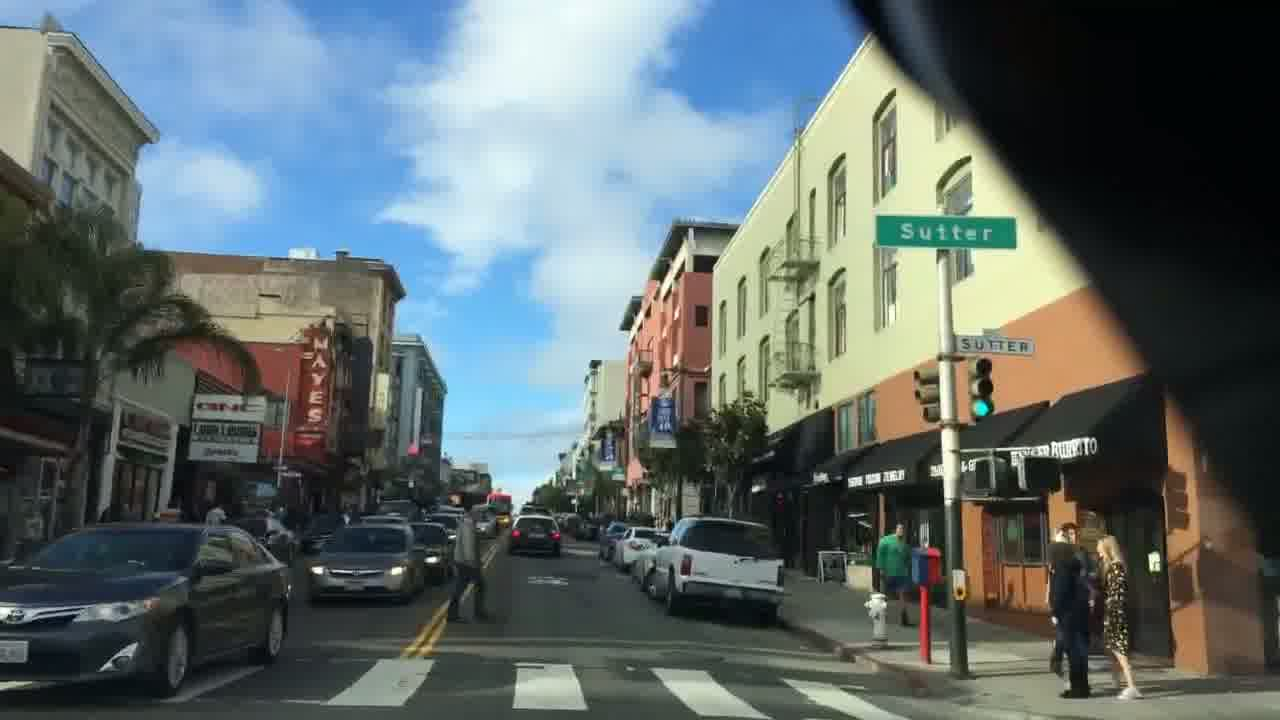car: (0, 520, 295, 700), (642, 515, 785, 621), (304, 520, 427, 605), (405, 520, 457, 583), (611, 525, 666, 574), (510, 512, 561, 556), (472, 510, 497, 539)
pedestrian: (1095, 533, 1145, 702), (1044, 526, 1091, 699), (446, 502, 496, 625), (871, 522, 914, 630)
